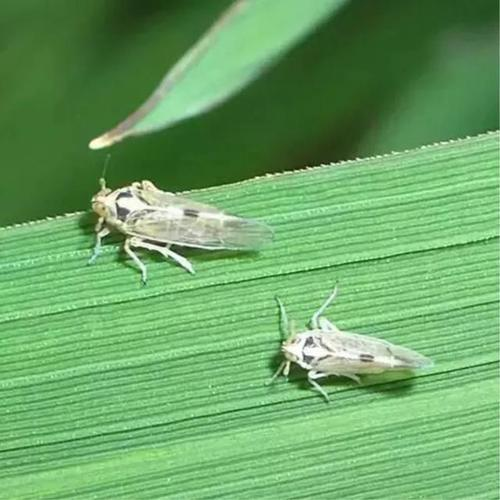Delphacidae: (85, 154, 276, 286), (263, 282, 438, 403)
